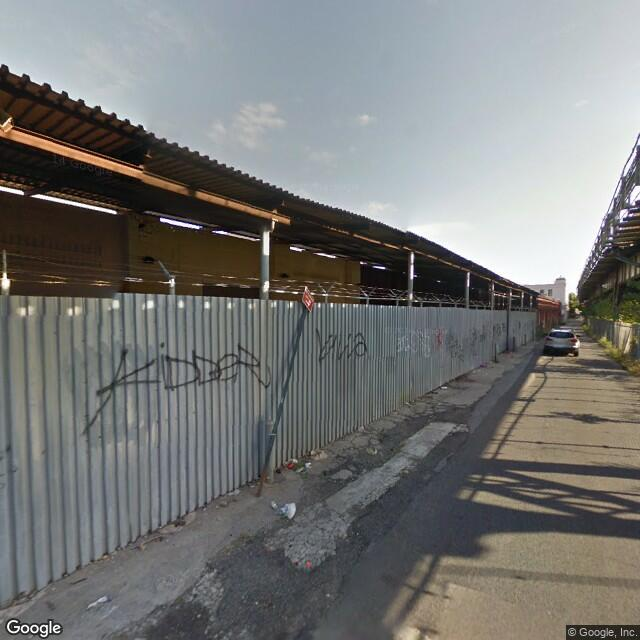litter: (282, 506, 298, 519), (271, 502, 278, 510), (287, 463, 296, 467), (229, 490, 243, 492), (305, 462, 310, 467), (442, 385, 447, 389), (359, 426, 365, 429)
